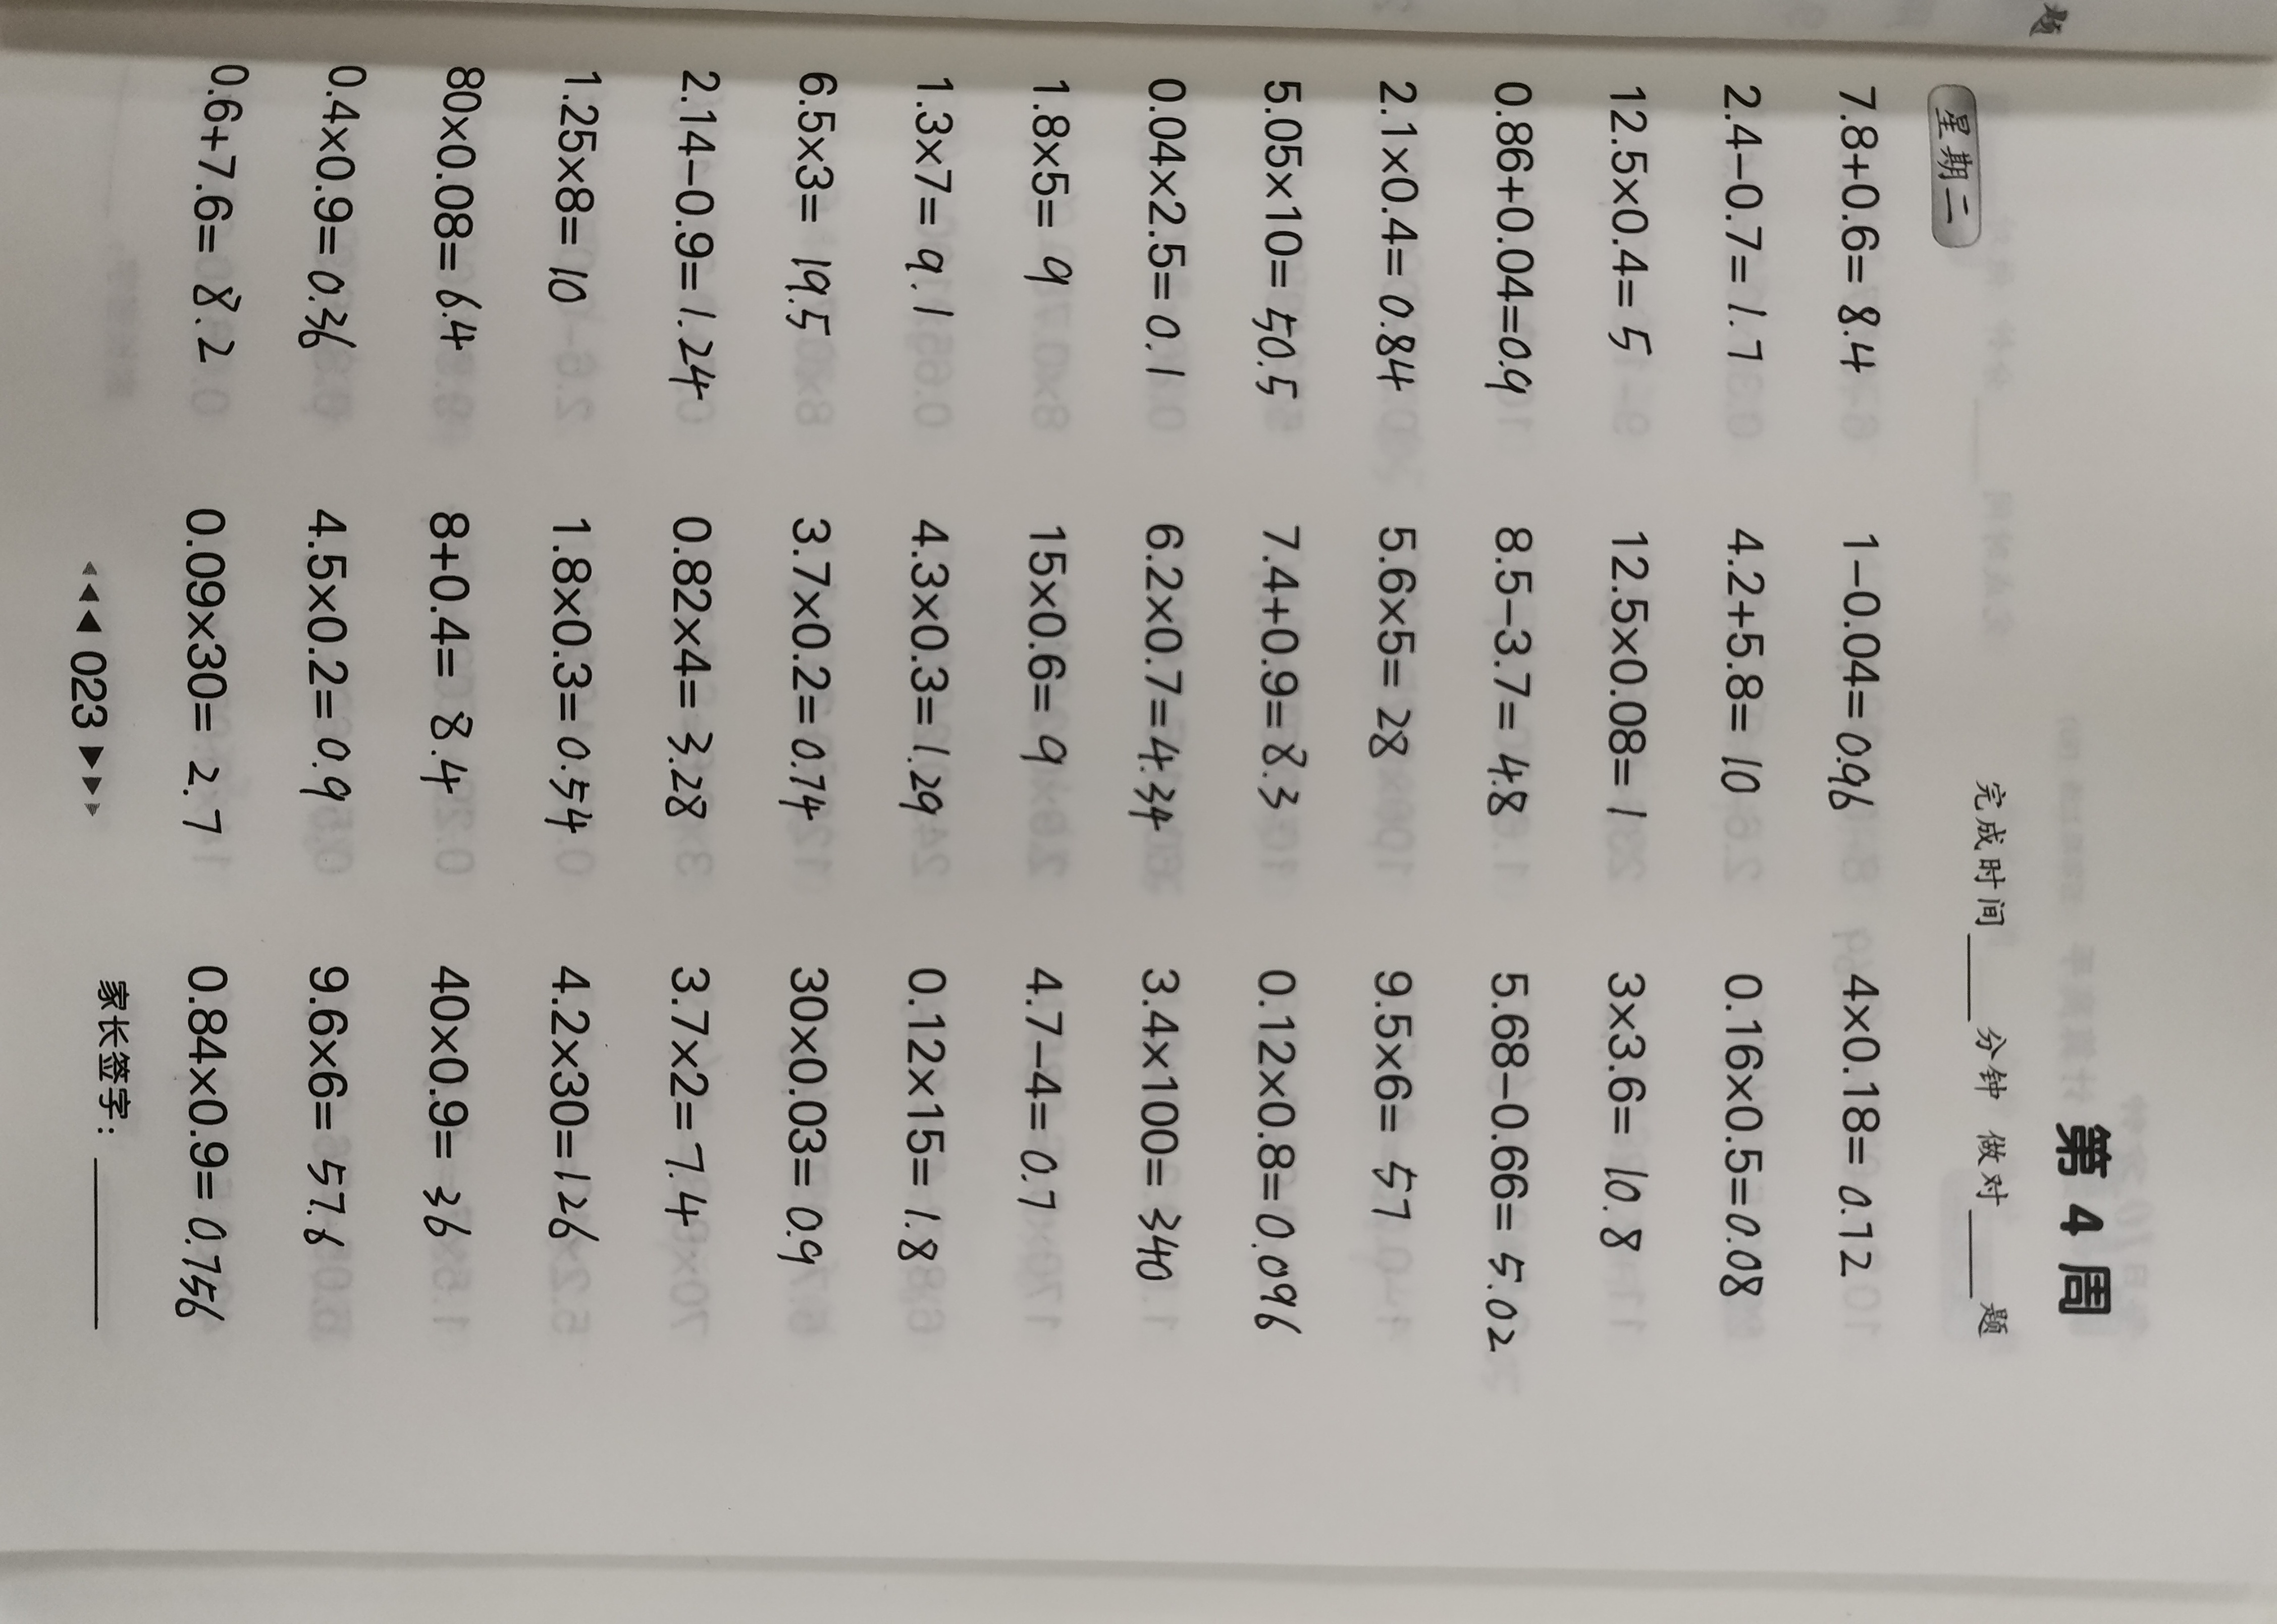equation: (1336, 515, 1917, 578), (1320, 1448, 1892, 1506), (1343, 687, 1911, 745), (691, 1443, 1204, 1506), (1338, 348, 1839, 411), (97, 511, 570, 578), (1333, 930, 1802, 995), (98, 677, 573, 740), (74, 1352, 527, 1417), (717, 928, 1180, 991), (717, 267, 1160, 330), (74, 1434, 540, 1494), (714, 515, 1173, 575), (691, 1362, 1162, 1420), (98, 598, 584, 654), (1343, 265, 1823, 322), (1308, 1355, 1788, 1411), (703, 1188, 1180, 1244), (72, 1012, 505, 1074), (74, 1100, 577, 1153), (1333, 1025, 1818, 1079), (703, 1102, 1173, 1158), (79, 1265, 505, 1327), (698, 1016, 1169, 1070), (709, 431, 1176, 485), (1338, 434, 1781, 490), (719, 770, 1180, 823), (84, 930, 487, 990), (97, 766, 563, 817), (687, 1276, 1136, 1329), (712, 599, 1106, 659), (100, 269, 543, 322), (1338, 775, 1820, 823), (1336, 1188, 1783, 1239), (712, 355, 1143, 408), (1322, 1278, 1767, 1329), (97, 353, 538, 404), (717, 685, 1152, 736), (1328, 603, 1760, 654), (105, 434, 533, 485), (84, 1186, 459, 1244), (1336, 1106, 1735, 1158), (1336, 854, 1732, 907), (93, 847, 436, 903), (723, 851, 1108, 900)
